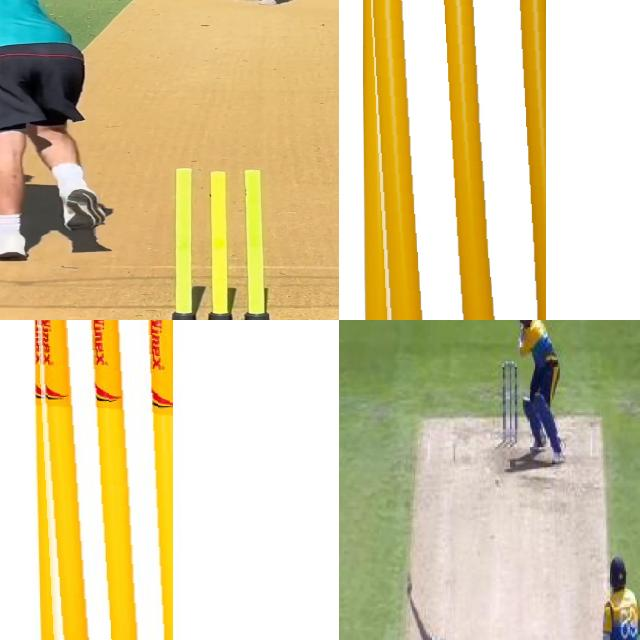Cricket ball: (492, 474, 503, 488)
Stumps: (361, 0, 545, 320), (31, 320, 173, 640)
